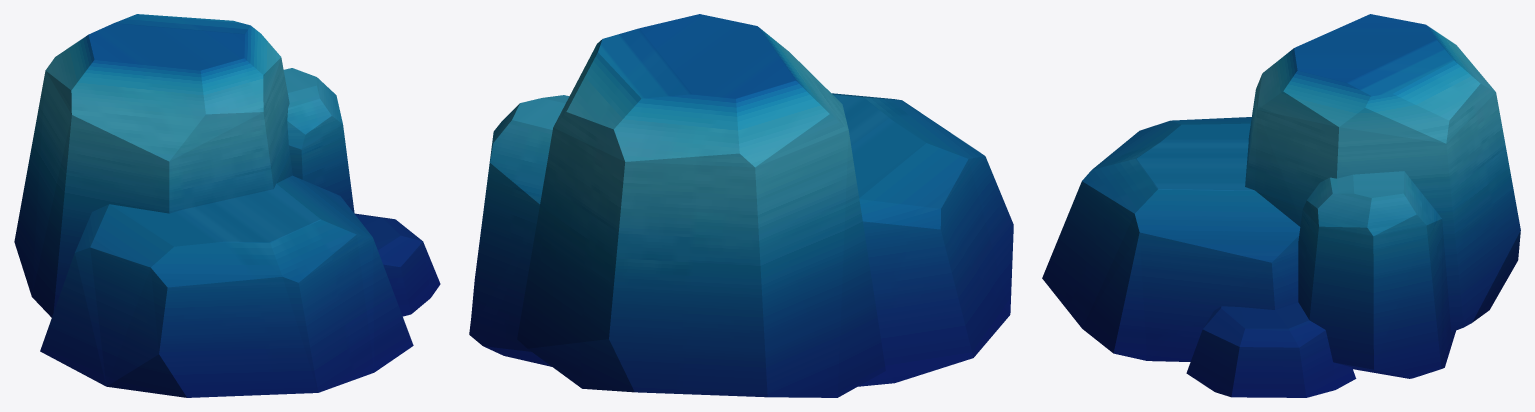
File: rocaesmeralda_02.fbx
3 renders of one model, left to right at view 1: azimuth 30°, elevation 25°; view 2: azimuth 150°, elevation 25°; view 3: azimuth 270°, elevation 25°, orthographic. The views are drawn at different scales.
Visible parts, largest first — view 1: cueva10; view 2: cueva10; view 3: cueva10.
Part boxes in pixels (<box>): cueva10: <box>14,14,440,397</box>; cueva10: <box>469,14,1013,397</box>; cueva10: <box>1042,14,1520,397</box>.
Size of the model in its own units: 1051 by 664 by 1131.
1 material, 1 textured.
